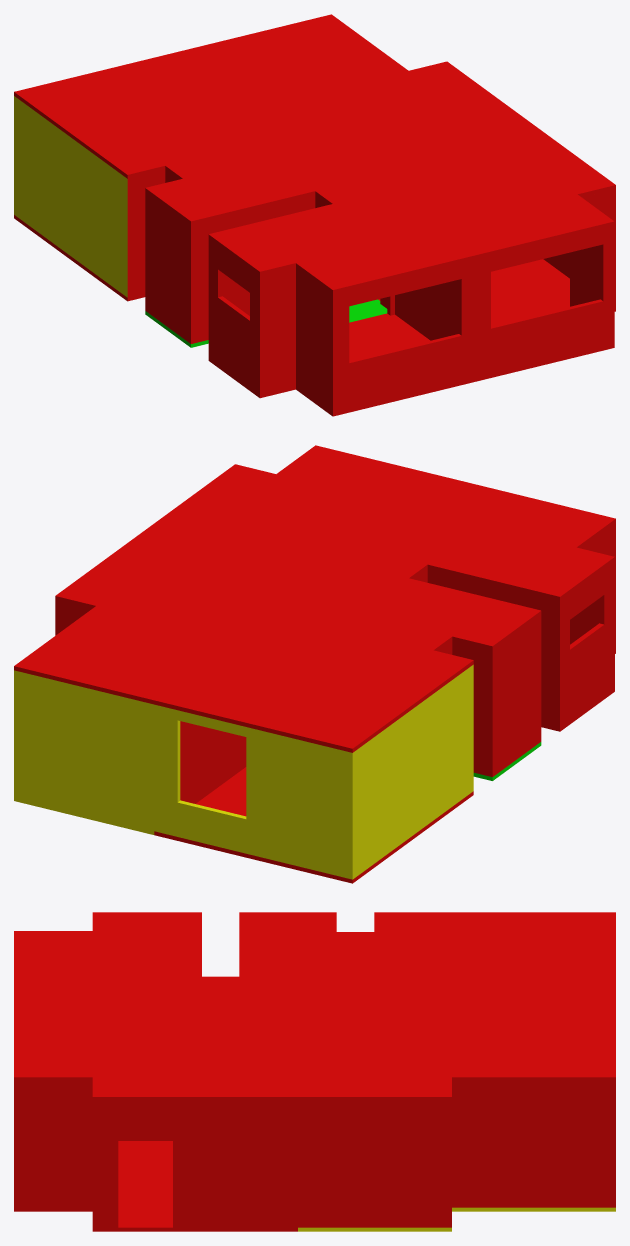
File: val_house_05_grp.fbx
3 renders of one model, top to bottom at view 1: azimuth 30°, elevation 25°; view 2: azimuth 150°, elevation 25°; view 3: azimuth 270°, elevation 25°, orthographic. The views are drawn at different scales.
Parts seen in each view (by area): view 1: val_house_05_ceiling, val_house_05_walls, val_house_05_floor; view 2: val_house_05_ceiling, val_house_05_walls, val_house_05_floor; view 3: val_house_05_ceiling, val_house_05_walls, val_house_05_floor.
Part boxes in pixels (x1,y1,x2,y2): val_house_05_ceiling: [14, 14, 615, 293]; val_house_05_walls: [14, 96, 615, 412]; val_house_05_floor: [14, 215, 615, 416]; val_house_05_ceiling: [14, 445, 615, 752]; val_house_05_walls: [14, 523, 615, 879]; val_house_05_floor: [14, 650, 615, 883]; val_house_05_ceiling: [14, 912, 615, 1101]; val_house_05_walls: [14, 1081, 615, 1227]; val_house_05_floor: [14, 1141, 615, 1231].
Bounding box in the file's own units: 762 × 258 × 1048.
